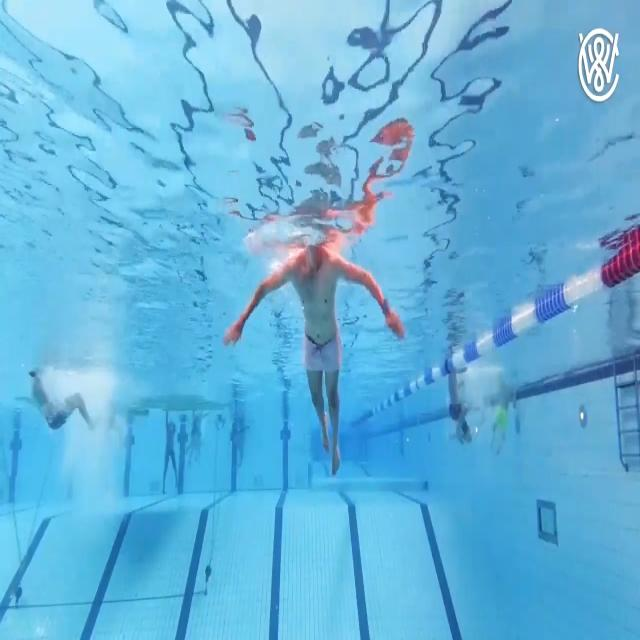Swimming: (226, 247, 404, 474), (29, 367, 99, 437), (448, 369, 474, 447)
